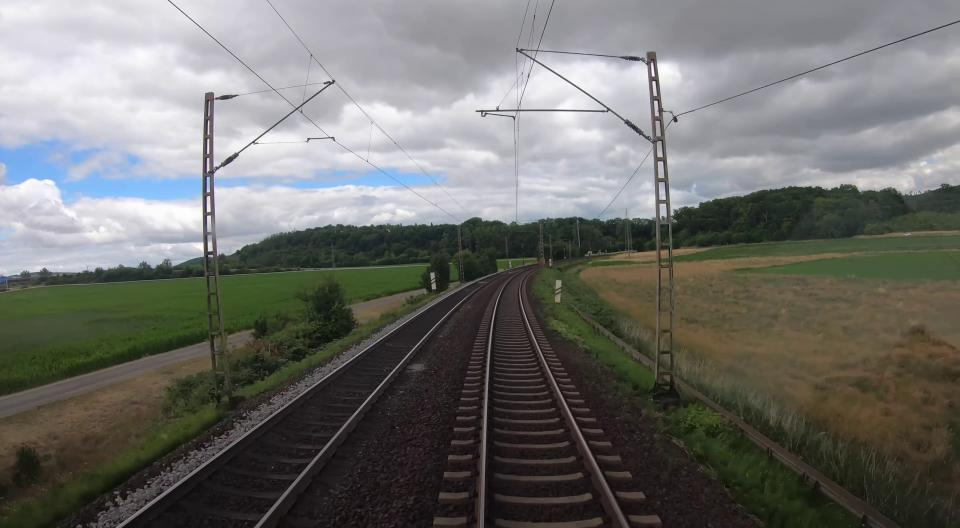Plant: (662, 404, 862, 528), (532, 269, 656, 417)
